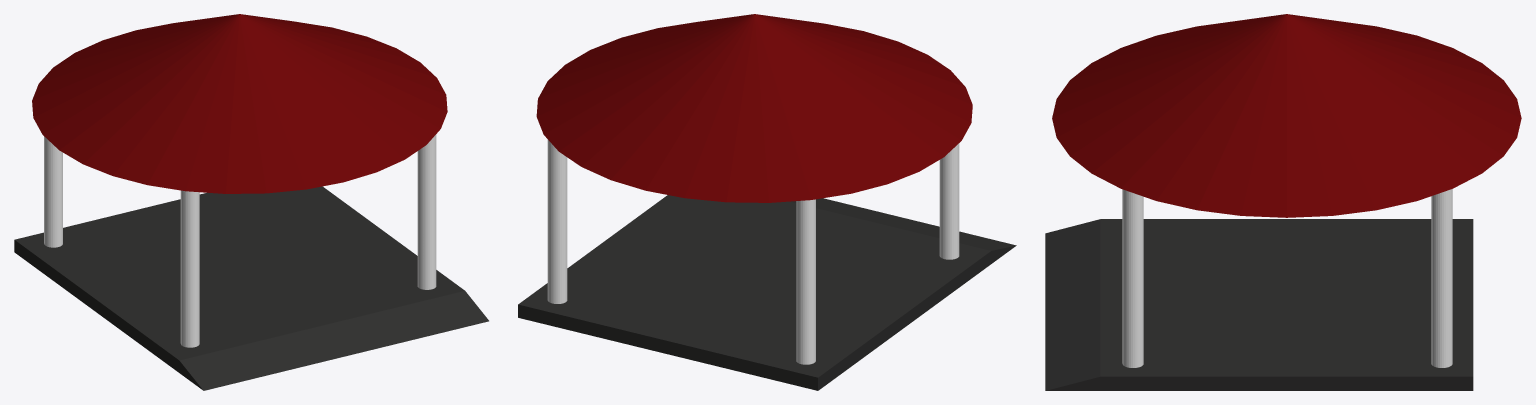
The model's file is storeHouse.glb.
The picture shows the model from 3 angles, left to right: view 1: azimuth 30°, elevation 25°; view 2: azimuth 150°, elevation 25°; view 3: azimuth 270°, elevation 25°; orthographic projection. The views are drawn at different scales.
Parts seen in each view (by area): view 1: Cone, Ground, Cylinder; view 2: Cone, Ground, Cylinder; view 3: Cone, Ground, Cylinder.
Boxes of the visible parts, bbox=[...] form: Cone: bbox=[32, 14, 447, 193]; Ground: bbox=[14, 186, 488, 390]; Cylinder: bbox=[44, 134, 436, 347]; Cone: bbox=[536, 14, 972, 202]; Ground: bbox=[518, 195, 1016, 390]; Cylinder: bbox=[547, 139, 959, 364]; Cone: bbox=[1052, 14, 1521, 217]; Ground: bbox=[1045, 219, 1473, 390]; Cylinder: bbox=[1122, 189, 1452, 367].
Bounding box in the file's own units: 22.07 × 15.42 × 22.32.
